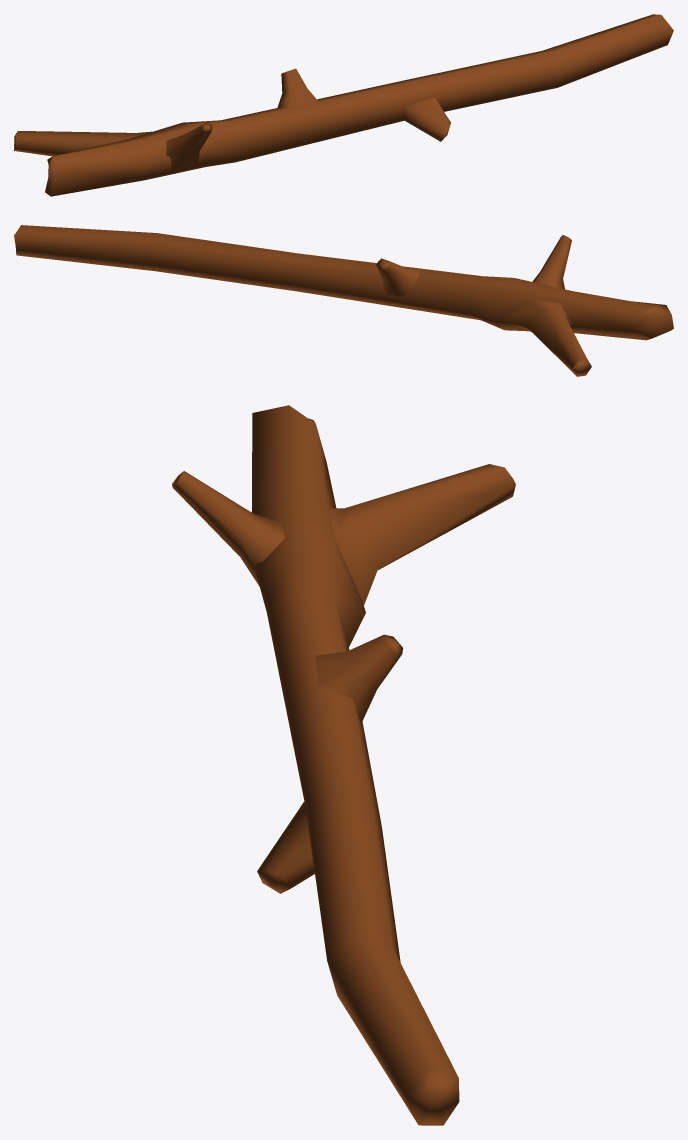
Rendered from branch3.fbx.
The picture shows the model from 3 angles, top to bottom: view 1: azimuth 30°, elevation 25°; view 2: azimuth 150°, elevation 25°; view 3: azimuth 270°, elevation 25°; orthographic projection. The views are drawn at different scales.
Visible parts, largest first — view 1: defaultMaterial; view 2: defaultMaterial; view 3: defaultMaterial.
Part boxes in pixels (x1,y1,x2,y2): defaultMaterial: (14, 14, 673, 196); defaultMaterial: (14, 225, 673, 376); defaultMaterial: (172, 405, 515, 1125).
Bounding box in the file's own units: 6.34 × 0.9153 × 1.53.
